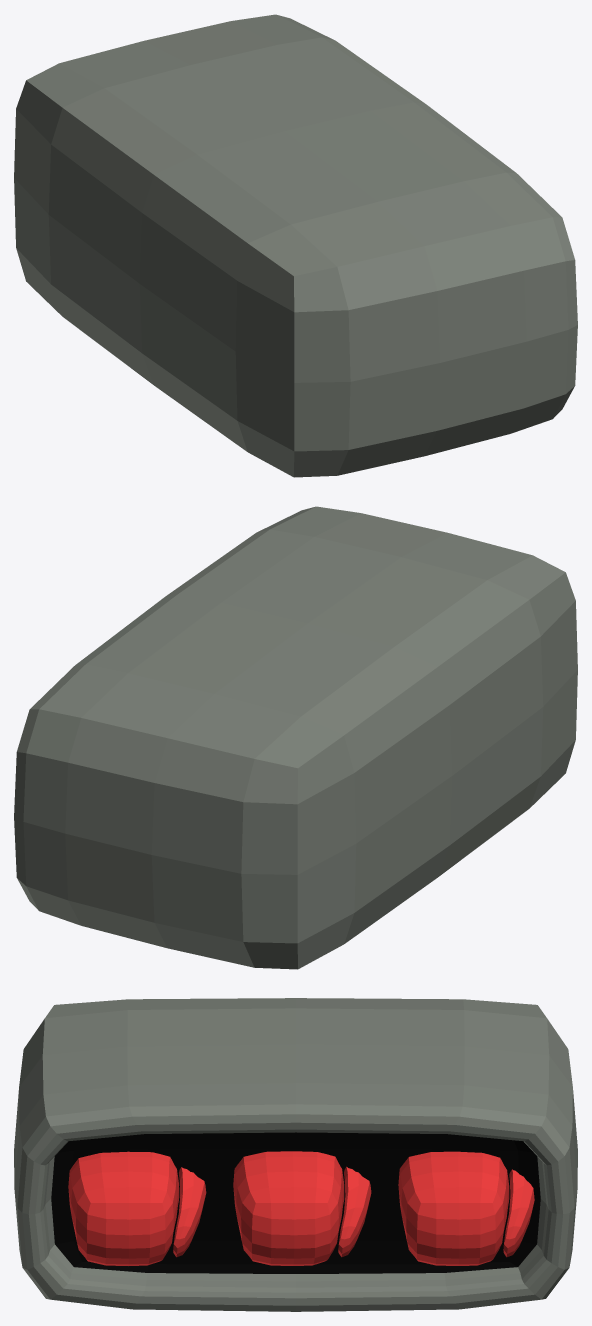
Rendered from BoxingSlingshot.fbx.
3 views of the same model, one above another, from view 1: azimuth 30°, elevation 25°; view 2: azimuth 150°, elevation 25°; view 3: azimuth 270°, elevation 25° (orthographic). The views are drawn at different scales.
Parts seen in each view (by area): view 1: Cube.001; view 2: Cube.001; view 3: Cube.001, Cube, Cube.002, Cube.003.
Part boxes in pixels (<box>): Cube.001: <box>14,14,577,477</box>; Cube.001: <box>14,506,577,969</box>; Cube.001: <box>14,998,577,1311</box>; Cube: <box>233,1151,371,1265</box>; Cube.002: <box>68,1151,206,1265</box>; Cube.003: <box>398,1151,534,1265</box>.
Bounding box in the file's own units: 1723 × 1203 × 2903.
